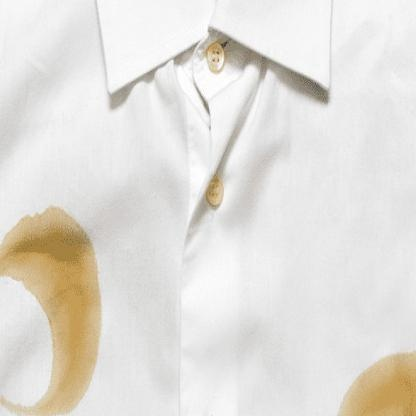coffee: (13, 224, 90, 285), (56, 299, 98, 386), (368, 363, 415, 415)
